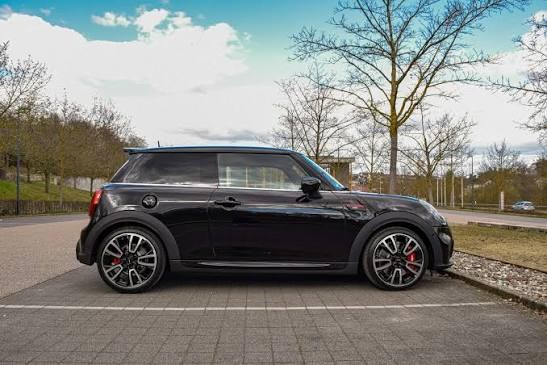car: (72, 144, 444, 291)
